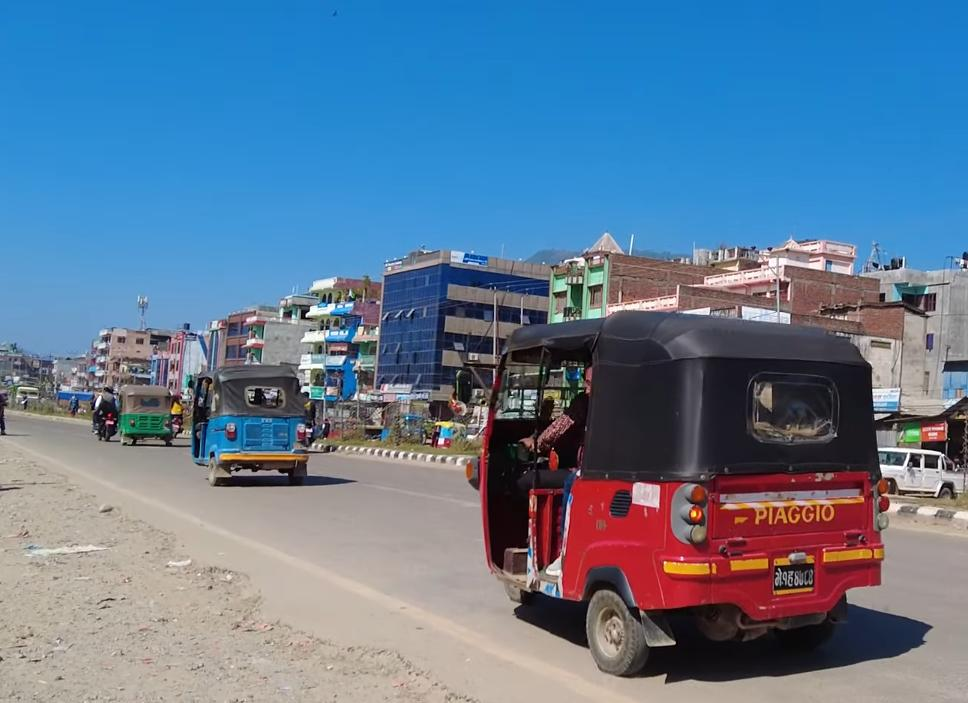auto_rickshaw: (449, 303, 896, 686), (191, 362, 321, 488)
